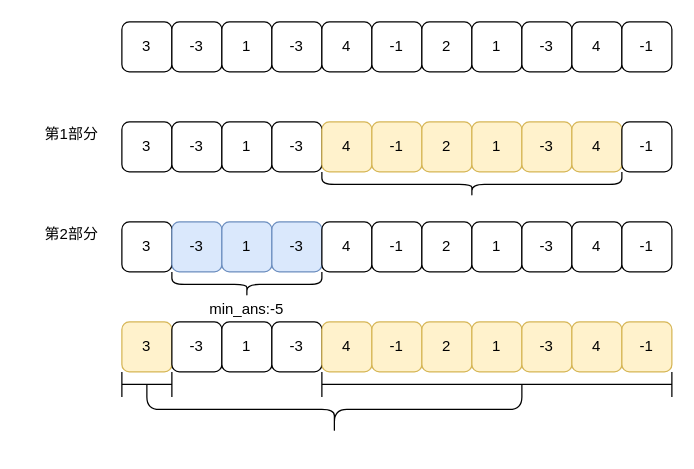
Image size: 694x469. Some labels were removed from this diagram. Here are the shapes that lost their labels. From the top down, the box of each, then its label:
(321, 171, 622, 197): ans1:7
(146, 383, 522, 434): ans2:9
